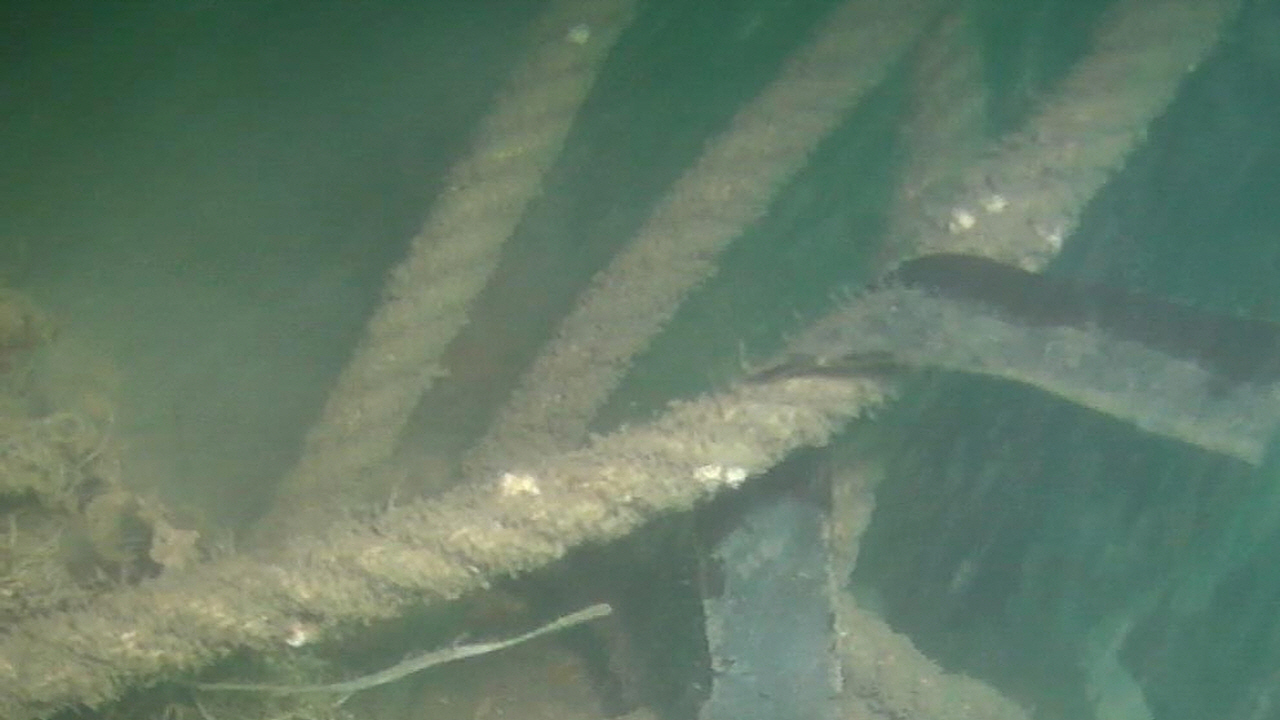bundle of ropes: (0, 0, 1240, 720)
